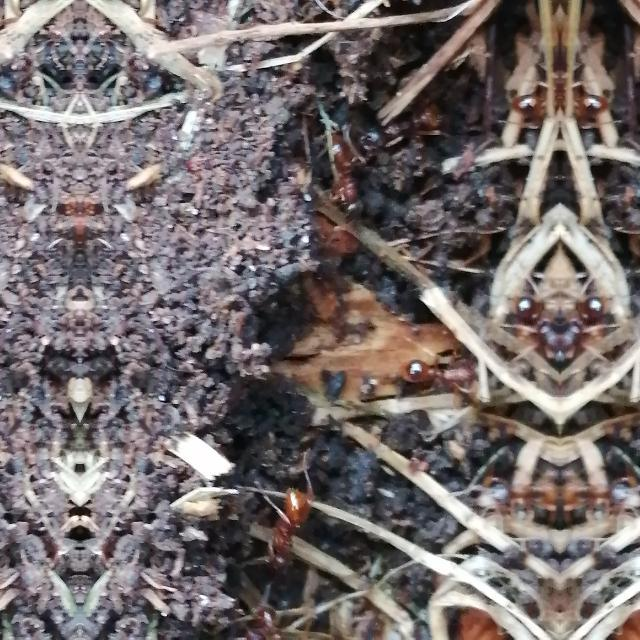Myrmica: (244, 464, 326, 582), (320, 102, 386, 216), (359, 101, 478, 157), (396, 338, 484, 402), (477, 458, 558, 526), (562, 456, 640, 526), (500, 280, 558, 372), (562, 280, 620, 372), (278, 250, 346, 326), (504, 60, 560, 140), (560, 60, 616, 140), (235, 585, 312, 639)
